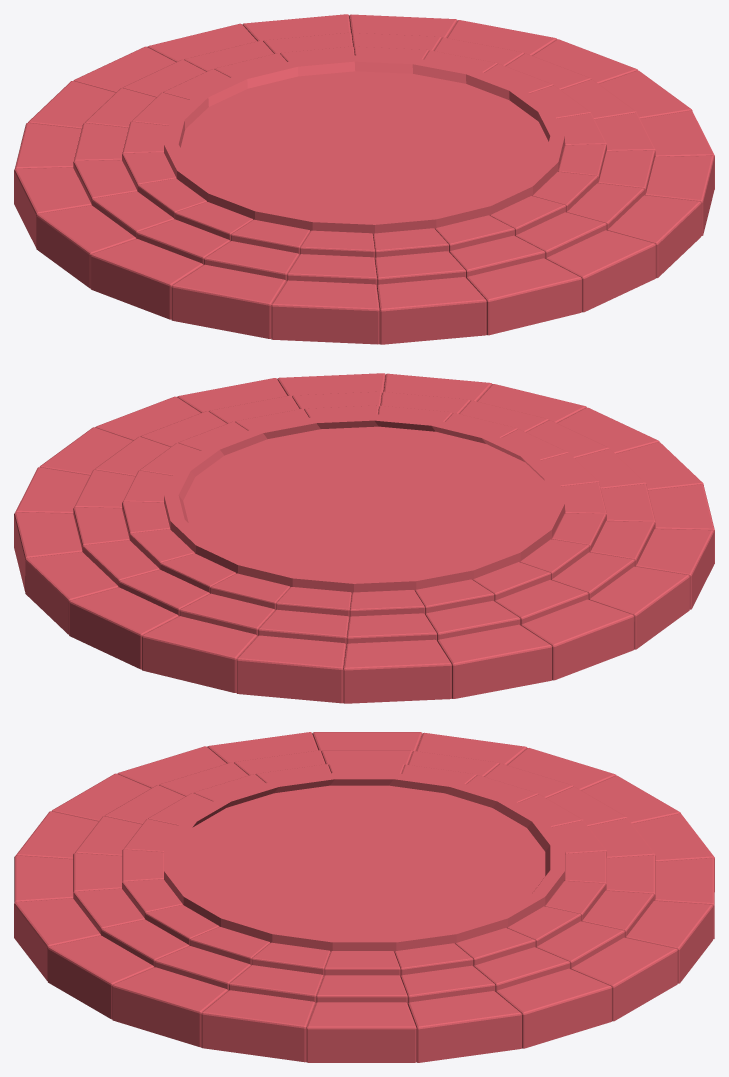
Rendered from WolfdenUpperFloorCenter.fbx.
3 renders of one model, top to bottom at view 1: azimuth 30°, elevation 25°; view 2: azimuth 150°, elevation 25°; view 3: azimuth 270°, elevation 25°, orthographic.
Visible parts, largest first — view 1: Cube.010, Circle.001, Cube.006, Cube.009; view 2: Cube.010, Circle.001, Cube.006, Cube.009; view 3: Cube.010, Circle.001, Cube.006, Cube.009.
Boxes of the visible parts, left/top/right/bottom form: Cube.010: left=14, top=14, right=714, bottom=344; Circle.001: left=164, top=55, right=564, bottom=234; Cube.006: left=73, top=32, right=655, bottom=285; Cube.009: left=122, top=46, right=606, bottom=258; Cube.010: left=14, top=373, right=714, bottom=703; Circle.001: left=164, top=414, right=564, bottom=592; Cube.006: left=73, top=391, right=655, bottom=644; Cube.009: left=122, top=405, right=606, bottom=617; Cube.010: left=14, top=732, right=714, bottom=1062; Circle.001: left=164, top=773, right=564, bottom=952; Cube.006: left=73, top=750, right=655, bottom=1003; Cube.009: left=122, top=764, right=606, bottom=976.
Bounding box in the file's own units: 3292 × 316 × 3292.
